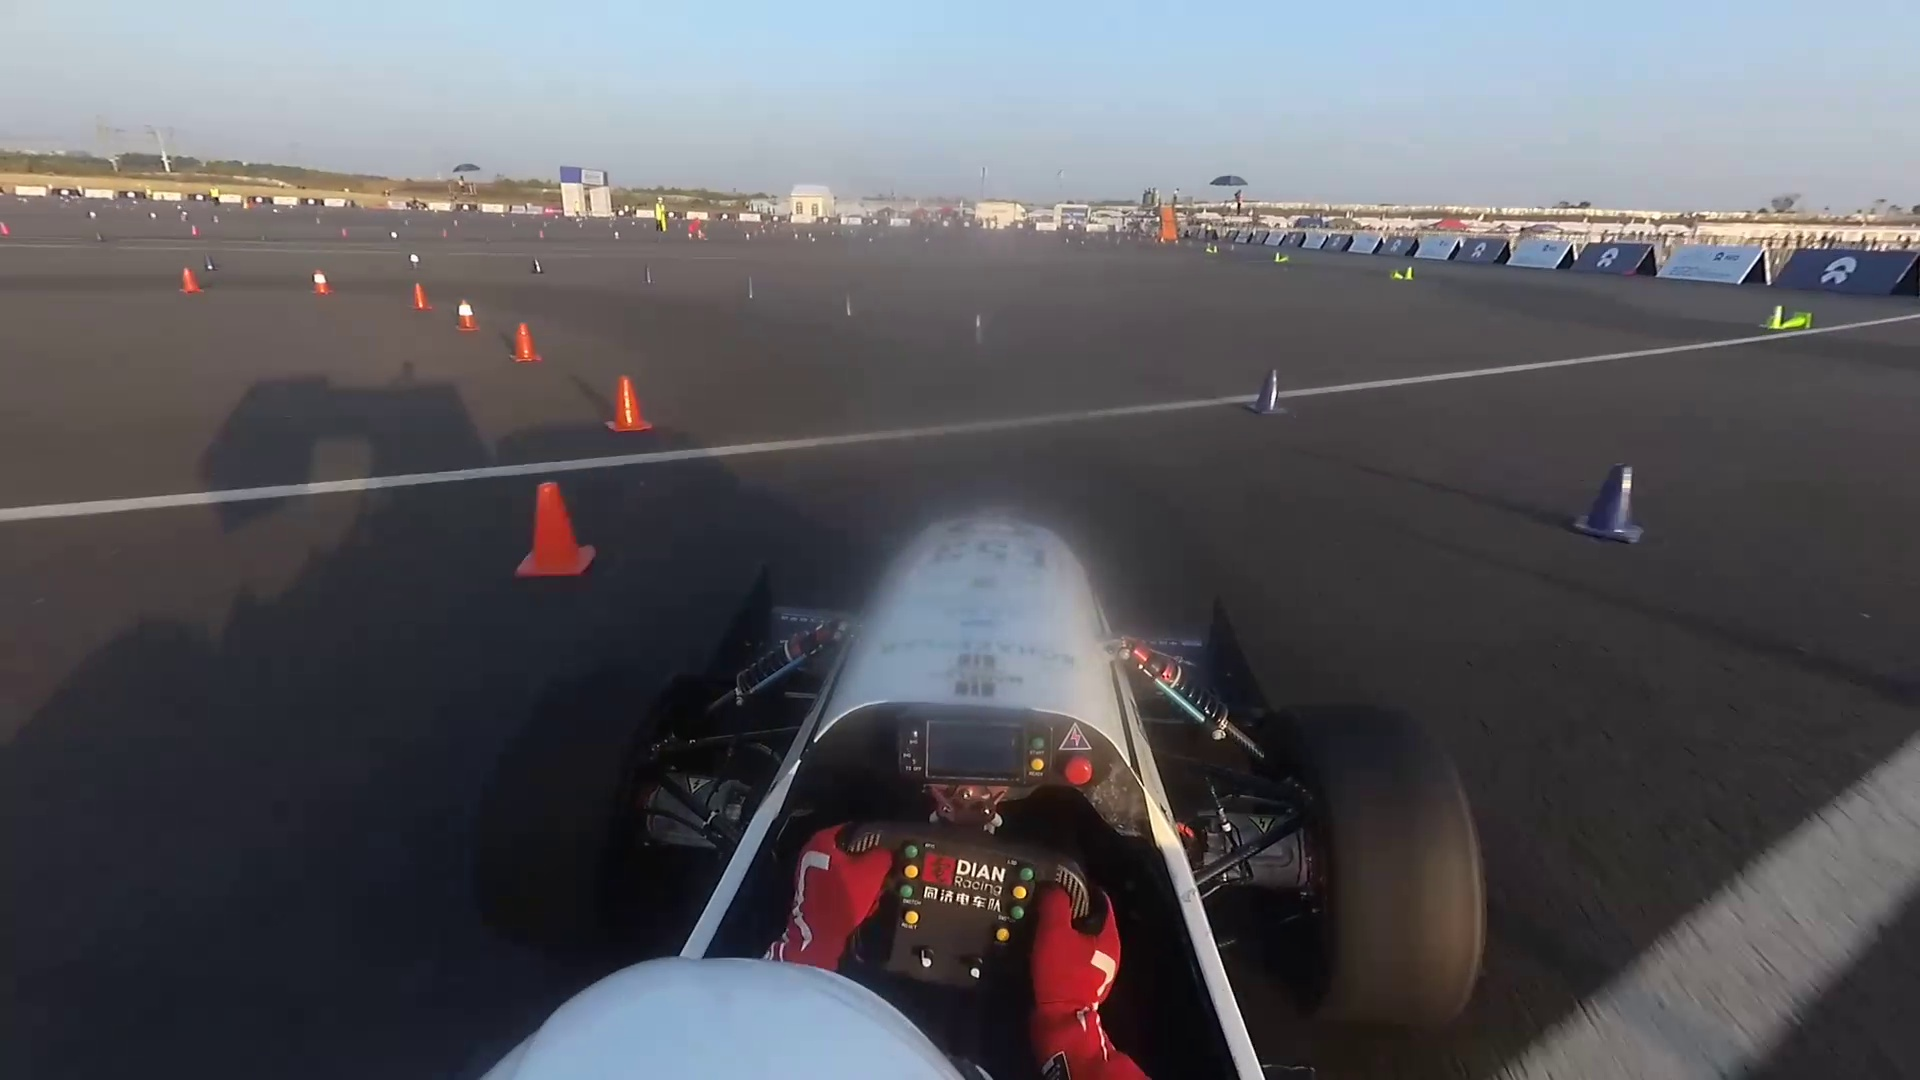blue_cone: (1582, 456, 1648, 545), (1251, 371, 1278, 433), (963, 316, 986, 345), (839, 289, 861, 316), (405, 251, 429, 276), (529, 255, 553, 278), (741, 277, 761, 305), (200, 252, 218, 274), (644, 262, 654, 286)
red_cone: (525, 487, 585, 587), (611, 378, 649, 433), (509, 324, 546, 365), (309, 266, 334, 305), (455, 301, 473, 335), (179, 272, 202, 299), (414, 282, 427, 314)
